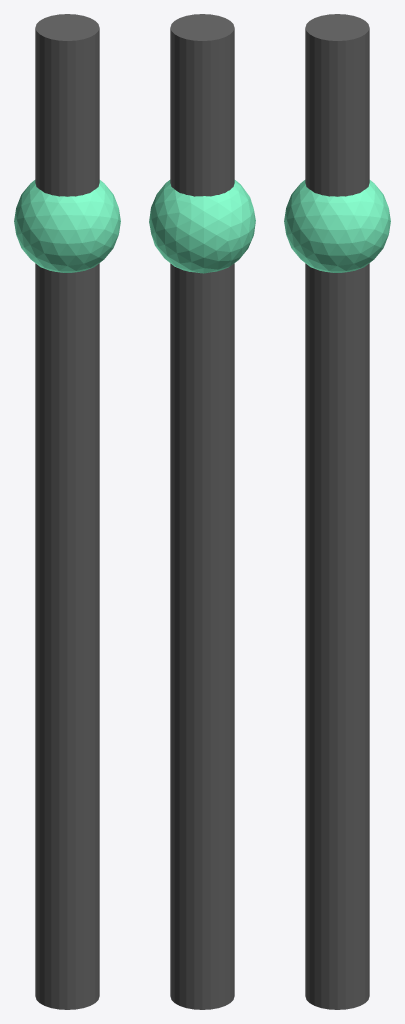
File: accessory-wifi.glb
3 renders of one model, left to right at view 1: azimuth 90°, elevation 25°; view 2: azimuth 150°, elevation 25°; view 3: azimuth 270°, elevation 25°, orthographic.
Parts seen in each view (by area): view 1: geometry_0, geometry_1; view 2: geometry_0, geometry_1; view 3: geometry_0, geometry_1.
Part boxes in pixels (box(x1,y1,x2,y2)): geometry_0: box(35, 14, 99, 1009); geometry_1: box(14, 180, 120, 272); geometry_0: box(170, 14, 234, 1009); geometry_1: box(149, 180, 255, 273); geometry_0: box(305, 14, 369, 1009); geometry_1: box(284, 180, 390, 272).
Size of the model in its own units: 0.01 by 0.1 by 0.01.
